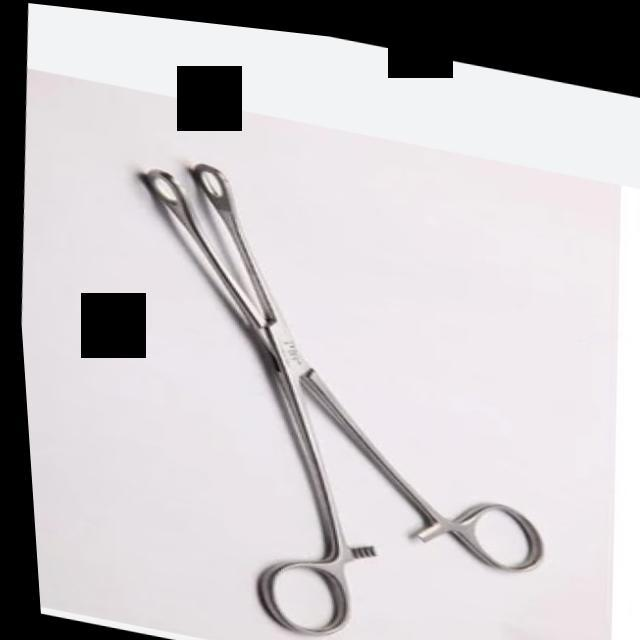Sponge Holding Forceps: (80, 139, 601, 640)
